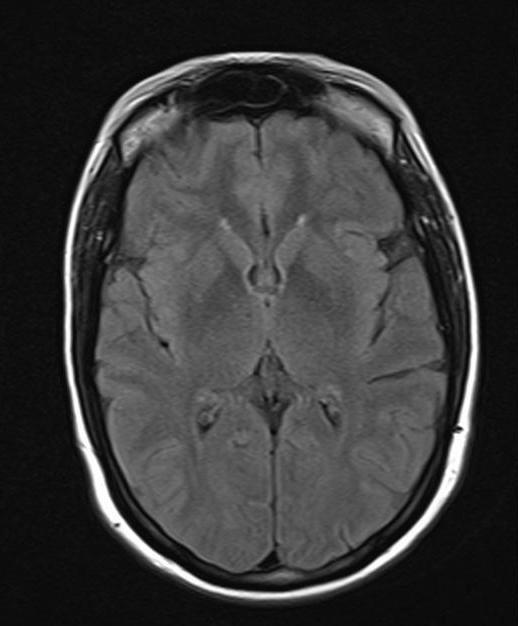Normal_Brain: (7, 1, 506, 586)
